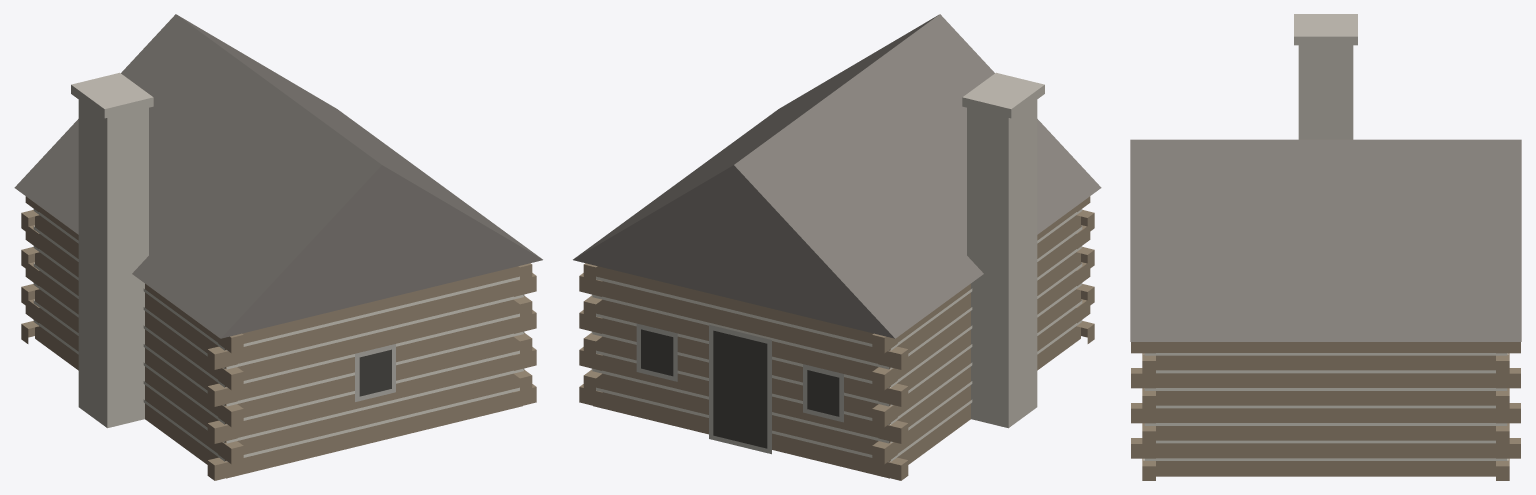
Rendered from recon_1835_blk_lake_franklin_d1_02__inferred_1835.glb.
The picture shows the model from 3 angles, left to right: view 1: azimuth 30°, elevation 25°; view 2: azimuth 150°, elevation 25°; view 3: azimuth 270°, elevation 25°; orthographic projection. The views are drawn at different scales.
Parts seen in each view (by area): view 1: recon_1835_blk_lake_franklin_d1_02__inferred_1835; view 2: recon_1835_blk_lake_franklin_d1_02__inferred_1835; view 3: recon_1835_blk_lake_franklin_d1_02__inferred_1835.
Part boxes in pixels (<box>): recon_1835_blk_lake_franklin_d1_02__inferred_1835: <box>14,14,542,480</box>; recon_1835_blk_lake_franklin_d1_02__inferred_1835: <box>573,14,1101,480</box>; recon_1835_blk_lake_franklin_d1_02__inferred_1835: <box>1130,14,1521,480</box>.
Size of the model in its own units: 6.78 by 5.98 by 6.87.
